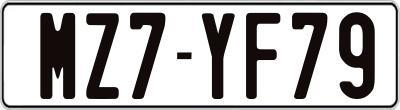7: (289, 10, 330, 96), (127, 10, 165, 99)
9: (338, 9, 378, 98)
F: (246, 11, 281, 97)
M: (39, 10, 76, 101)
Y: (202, 12, 237, 104)
Z: (85, 11, 119, 99)
